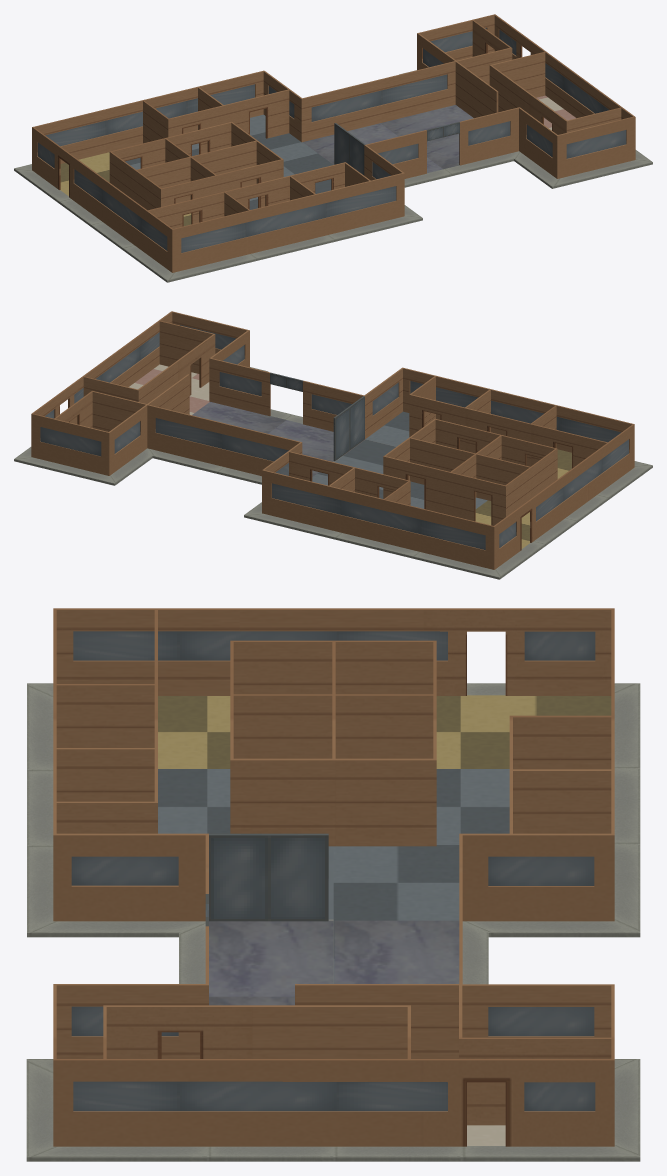
Rendered from office2.fbx.
The picture shows the model from 3 angles, top to bottom: view 1: azimuth 30°, elevation 25°; view 2: azimuth 150°, elevation 25°; view 3: azimuth 270°, elevation 25°; orthographic projection. The views are drawn at different scales.
Visible parts, largest first — view 1: oustidewall, officewalls, glass_PASS1, floor1; view 2: oustidewall, officewalls, glass_PASS1, floor1; view 3: officewalls, oustidewall, floor1, glass_PASS1.
Boxes of the visible parts, box(x1,y1,x2,y2) form: oustidewall: box(32, 14, 635, 272); officewalls: box(109, 20, 621, 228); glass_PASS1: box(37, 28, 626, 252); floor1: box(14, 70, 652, 282); oustidewall: box(31, 311, 634, 569); officewalls: box(54, 321, 607, 525); glass_PASS1: box(40, 325, 628, 549); floor1: box(14, 364, 652, 579); officewalls: box(56, 610, 611, 1125); oustidewall: box(53, 608, 614, 1146); floor1: box(26, 683, 640, 1161); glass_PASS1: box(71, 631, 595, 1111).
Size of the model in its own units: 3569 by 318 by 1953.
